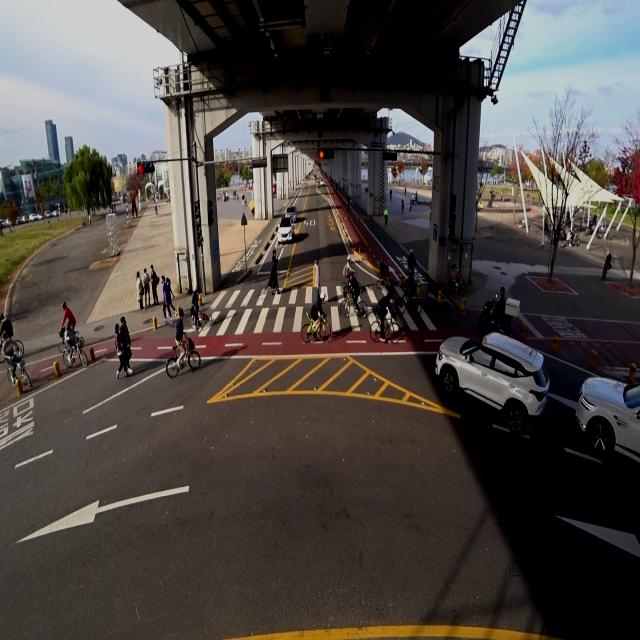Car: (431, 324, 552, 442), (571, 352, 640, 468), (276, 214, 296, 248), (283, 202, 297, 223)
Motorcycle: (477, 284, 522, 338)
